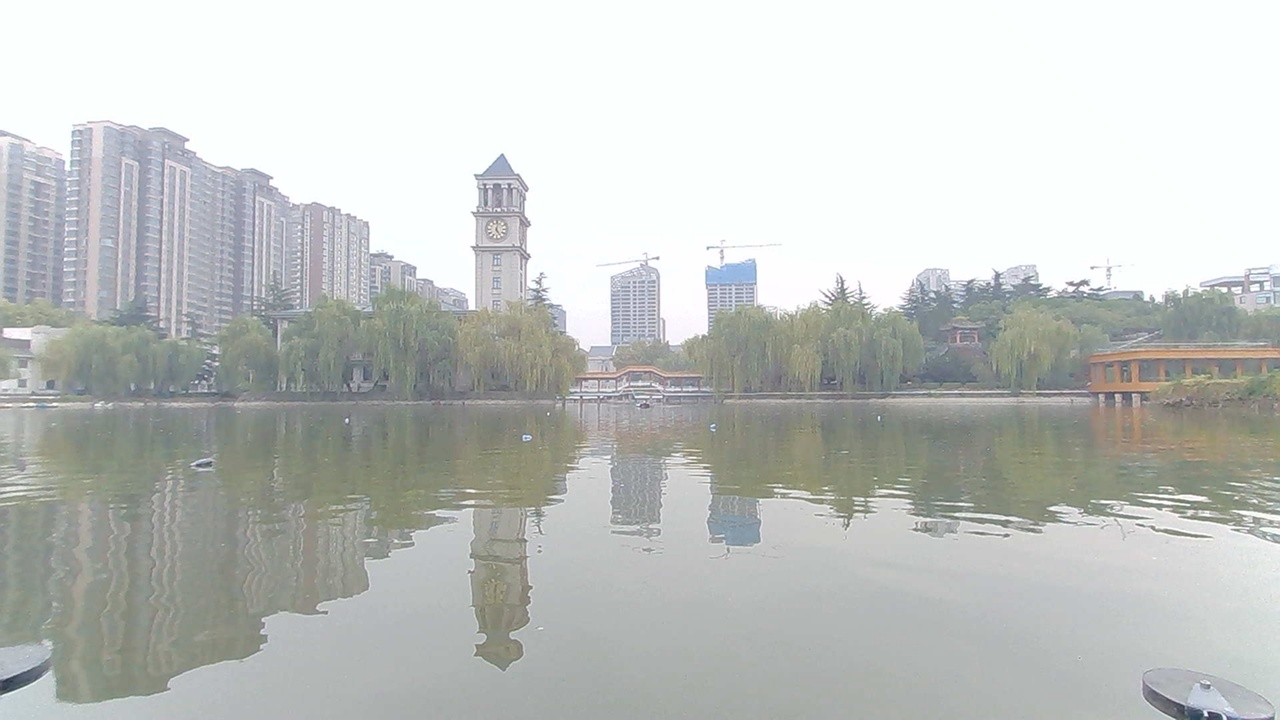bottle: (189, 451, 226, 480), (324, 407, 361, 436), (703, 407, 737, 434), (863, 402, 893, 428), (526, 432, 563, 453), (539, 407, 568, 429)
